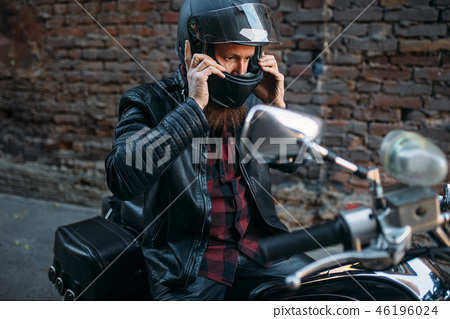helmet: (178, 3, 277, 102)
